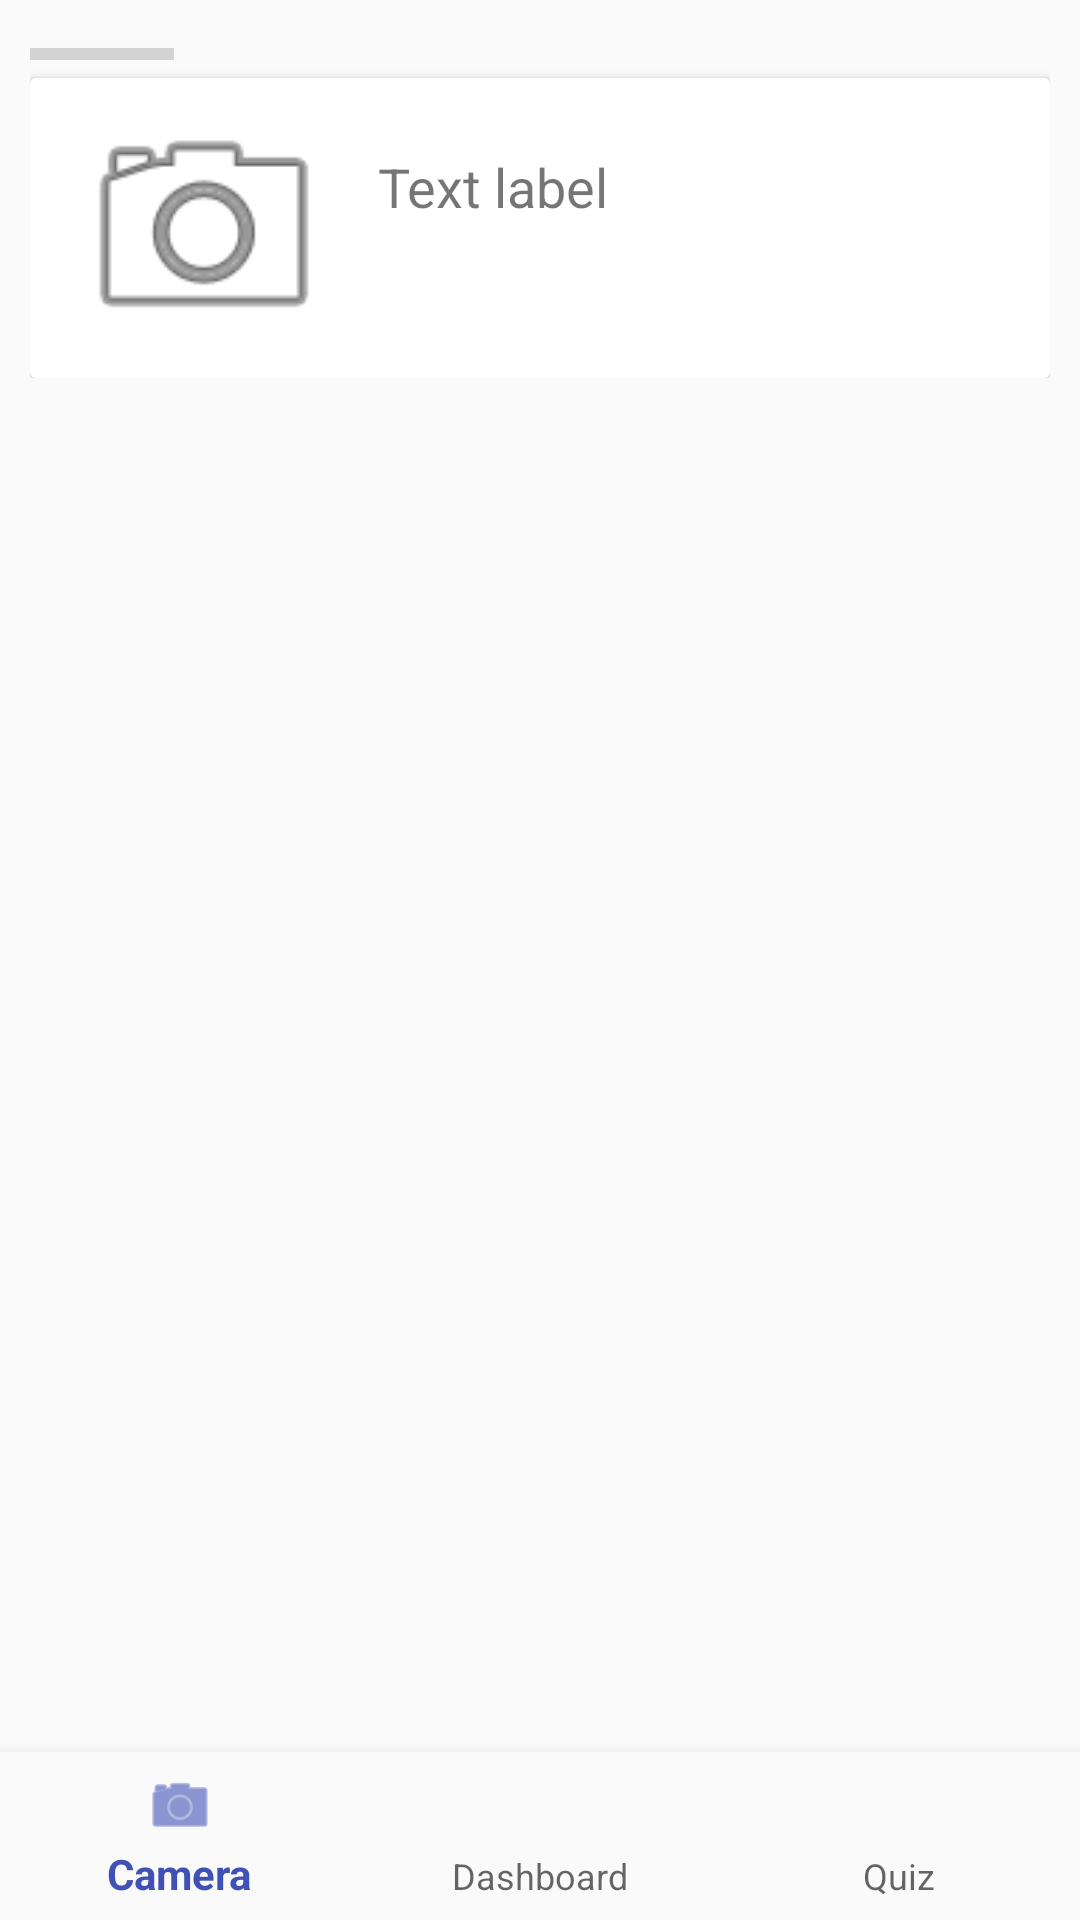

Icon click points for this 1080px×1920px phone screenshot, format (x=x, y=y):
camera: (x=203, y=223)
